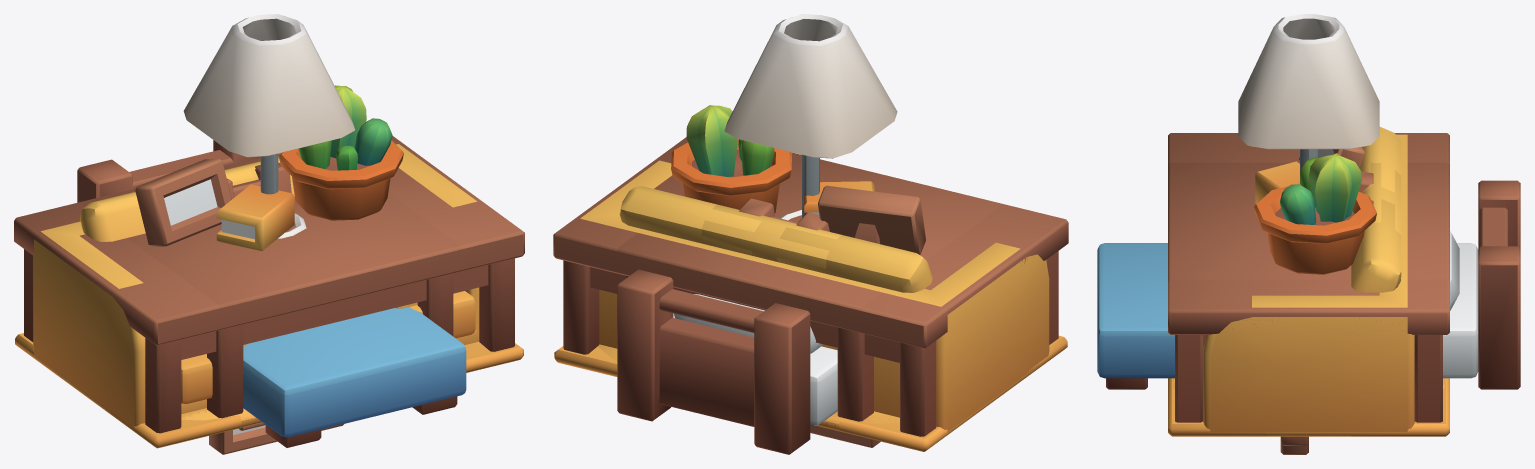
The model's file is furniture.glb.
The picture shows the model from 3 angles, left to right: view 1: azimuth 30°, elevation 25°; view 2: azimuth 150°, elevation 25°; view 3: azimuth 270°, elevation 25°; orthographic projection. The views are drawn at different scales.
Parts seen in each view (by area): view 1: table_medium_long, bed_single_A, couch_pillows, table_medium, cabinet_medium_decorated, lamp_standing, rug_rectangle_stripes_A, pictureframe_large_A, rug_oval_A, chair_A, armchair_pillows; view 2: couch_pillows, bed_single_A, table_medium_long, lamp_standing, table_medium, cabinet_medium_decorated, rug_rectangle_stripes_A, armchair_pillows, chair_A, pictureframe_large_A, rug_oval_A; view 3: couch_pillows, bed_single_A, table_medium_long, table_medium, lamp_standing, cabinet_medium_decorated, rug_rectangle_stripes_A, armchair_pillows, rug_oval_A.
Boxes of the visible parts, x1,y1,x2,y2 form: table_medium_long: [14, 136, 524, 433]; bed_single_A: [77, 140, 466, 447]; couch_pillows: [33, 144, 479, 428]; table_medium: [78, 153, 461, 418]; cabinet_medium_decorated: [135, 85, 403, 251]; lamp_standing: [183, 14, 354, 194]; rug_rectangle_stripes_A: [15, 333, 523, 448]; pictureframe_large_A: [209, 424, 343, 454]; rug_oval_A: [62, 342, 480, 427]; chair_A: [227, 162, 291, 199]; armchair_pillows: [224, 157, 417, 346]; couch_pillows: [580, 160, 1049, 431]; bed_single_A: [617, 269, 837, 454]; table_medium_long: [553, 137, 1068, 436]; lamp_standing: [724, 14, 897, 217]; table_medium: [617, 152, 1003, 421]; cabinet_medium_decorated: [671, 105, 925, 254]; rug_rectangle_stripes_A: [554, 335, 1067, 451]; armchair_pillows: [701, 204, 841, 268]; chair_A: [739, 198, 829, 231]; pictureframe_large_A: [810, 424, 880, 447]; rug_oval_A: [598, 344, 899, 430]; couch_pillows: [1203, 127, 1414, 431]; bed_single_A: [1097, 180, 1520, 389]; table_medium_long: [1168, 133, 1449, 422]; table_medium: [1168, 162, 1449, 281]; lamp_standing: [1238, 14, 1379, 183]; cabinet_medium_decorated: [1254, 147, 1376, 274]; rug_rectangle_stripes_A: [1168, 378, 1449, 436]; armchair_pillows: [1363, 162, 1401, 234]; rug_oval_A: [1170, 378, 1446, 436].
Bounding box in the file's own units: 3 × 3.12 × 3.
Materials: 1 (1 with a texture image).
